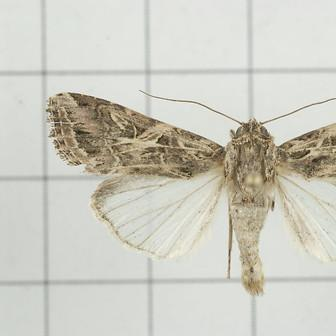Spodoptera litura: (45, 90, 336, 297)
